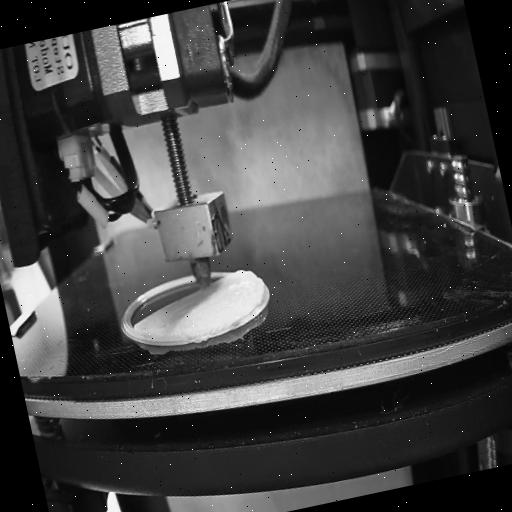over_extrusion: (235, 262, 271, 319)
